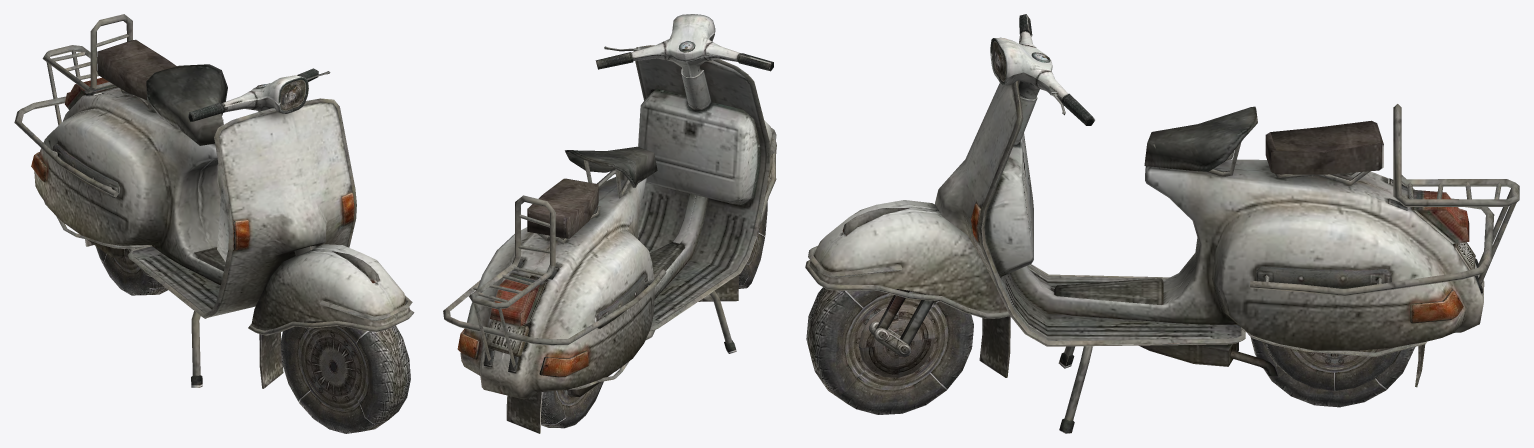
Rendered from p_vespa_worn.glb.
The picture shows the model from 3 angles, left to right: view 1: azimuth 30°, elevation 25°; view 2: azimuth 150°, elevation 25°; view 3: azimuth 270°, elevation 25°; orthographic projection. The views are drawn at different scales.
Parts seen in each view (by area): view 1: skfb_offset; view 2: skfb_offset; view 3: skfb_offset.
Boxes of the visible parts, box(x1,y1,x2,y2) form: skfb_offset: box(14, 14, 414, 433); skfb_offset: box(443, 14, 776, 433); skfb_offset: box(805, 14, 1519, 433).
Bounding box in the file's own units: 6459 × 11912 × 21239.
Materials: 1 (1 with a texture image).
